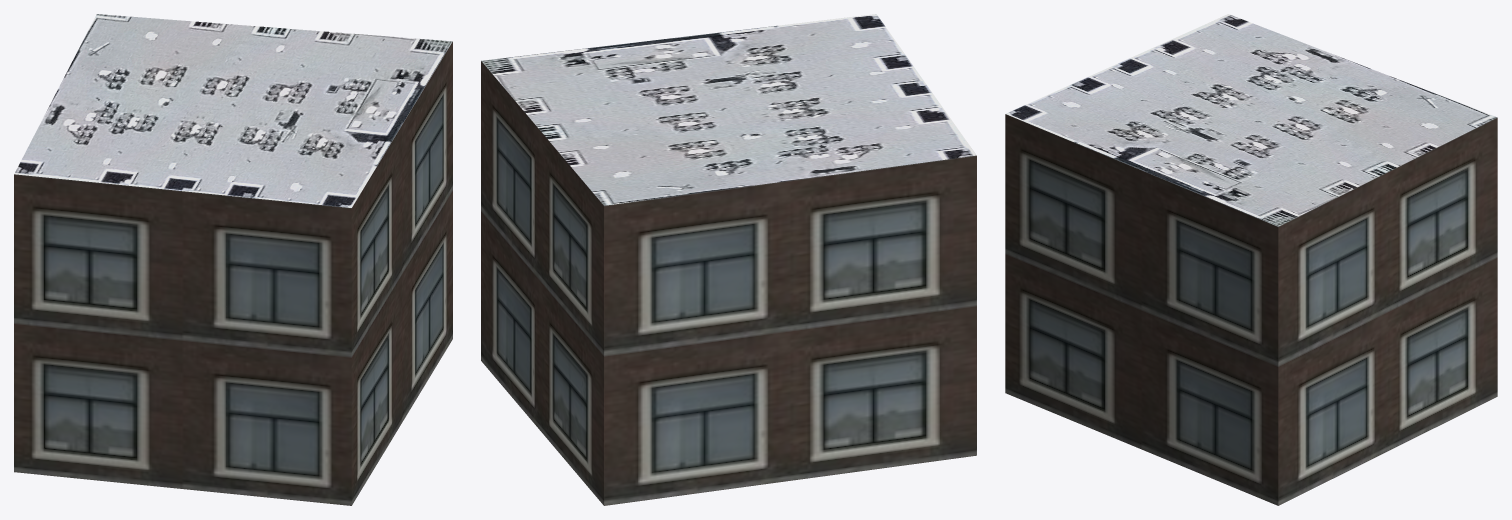
File: ResTex__2849.fbx
3 renders of one model, left to right at view 1: azimuth 30°, elevation 25°; view 2: azimuth 150°, elevation 25°; view 3: azimuth 270°, elevation 25°, orthographic. The views are drawn at different scales.
Visible parts, largest first — view 1: CityEngineMaterial_16_m, CityEngineMaterial_15_m; view 2: CityEngineMaterial_16_m, CityEngineMaterial_15_m; view 3: CityEngineMaterial_16_m, CityEngineMaterial_15_m.
Boxes of the visible parts, x1,y1,x2,y2 form: CityEngineMaterial_16_m: (14,41,452,505); CityEngineMaterial_15_m: (14,14,452,207); CityEngineMaterial_16_m: (481,61,976,505); CityEngineMaterial_15_m: (481,14,976,205); CityEngineMaterial_16_m: (1005,114,1497,505); CityEngineMaterial_15_m: (1006,14,1497,226).
Size of the model in its own units: 9.81 by 6 by 9.59.
Materials: 2 (2 with a texture image).
